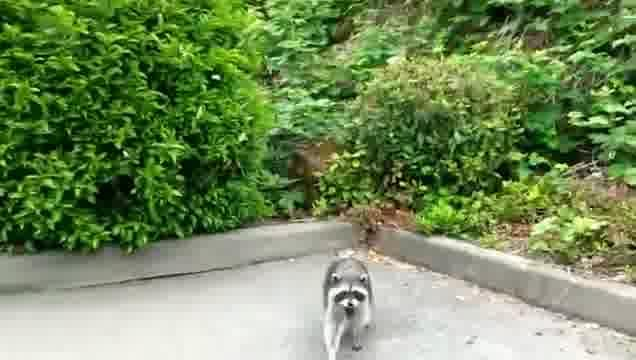raccoon: (321, 255, 377, 360)
